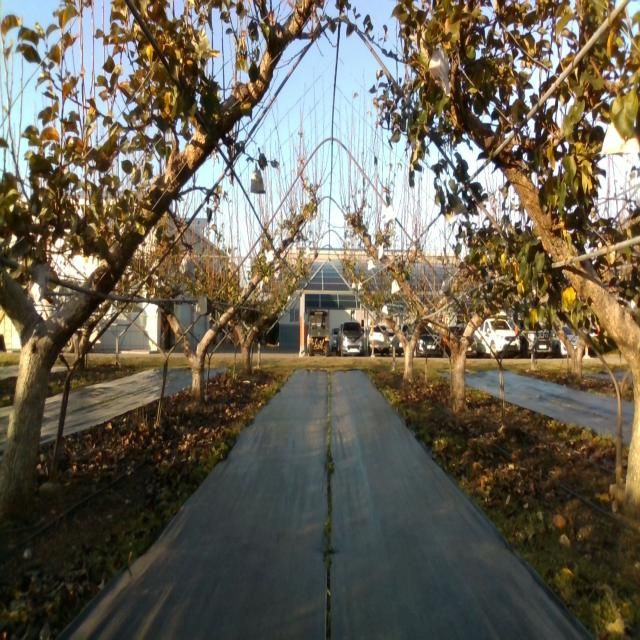pearbags: (601, 120, 640, 155), (428, 44, 451, 97), (28, 263, 50, 304), (178, 252, 196, 280), (250, 163, 266, 194), (451, 196, 468, 219), (441, 277, 451, 297)
